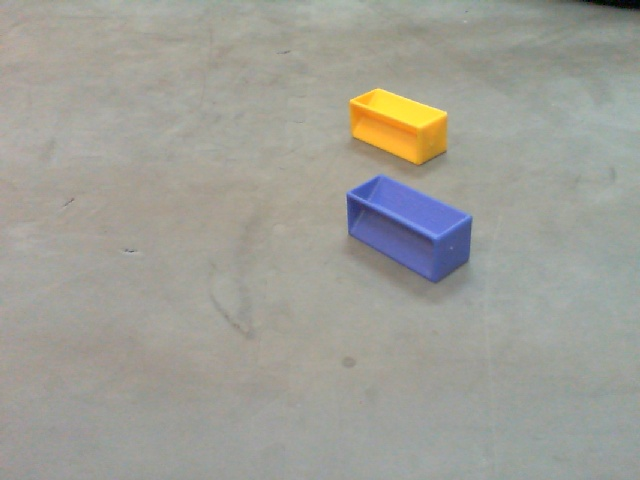BlueSample: (344, 173, 476, 286)
YellowSample: (346, 85, 450, 166)
